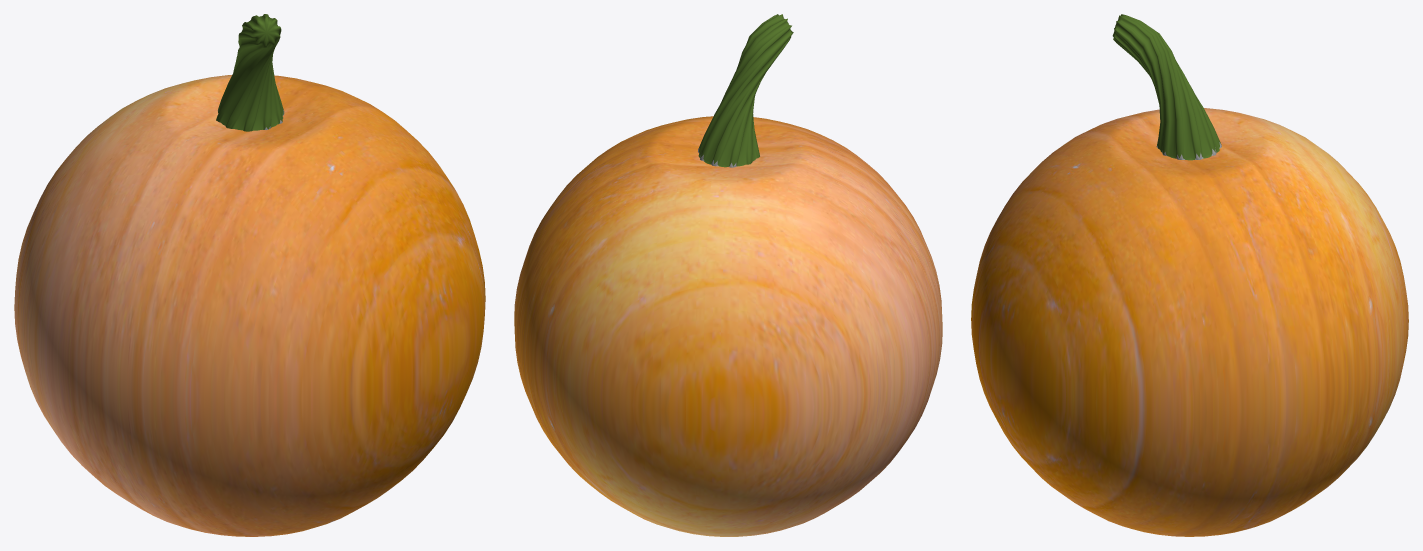
The model's file is Pumpkin_no_Bevel 1.fbx.
The picture shows the model from 3 angles, left to right: view 1: azimuth 30°, elevation 25°; view 2: azimuth 150°, elevation 25°; view 3: azimuth 270°, elevation 25°; orthographic projection. The views are drawn at different scales.
Visible parts, largest first — view 1: pSphere6; view 2: pSphere6; view 3: pSphere6.
Part boxes in pixels (box(x1,y1,x2,y2)): pSphere6: box(14, 14, 485, 536); pSphere6: box(514, 14, 942, 536); pSphere6: box(971, 14, 1408, 536).
Bounding box in the file's own units: 5.1 × 6.12 × 5.1.
